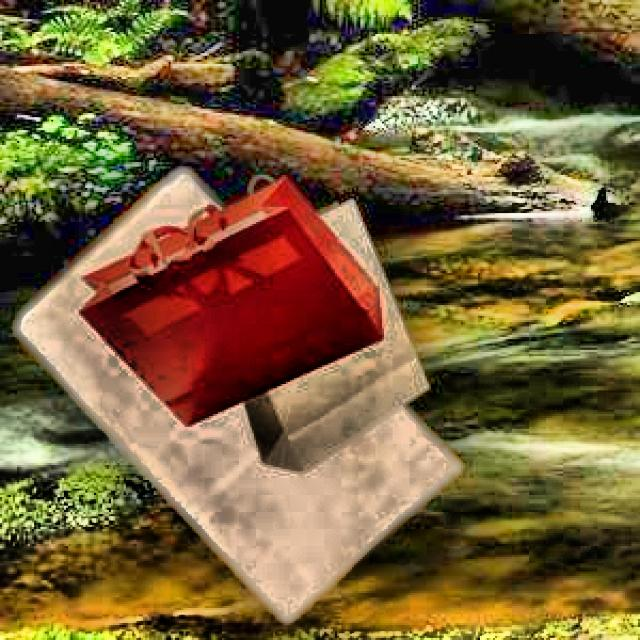Paper-bag: (21, 171, 464, 628), (90, 171, 382, 451), (199, 186, 438, 467)
